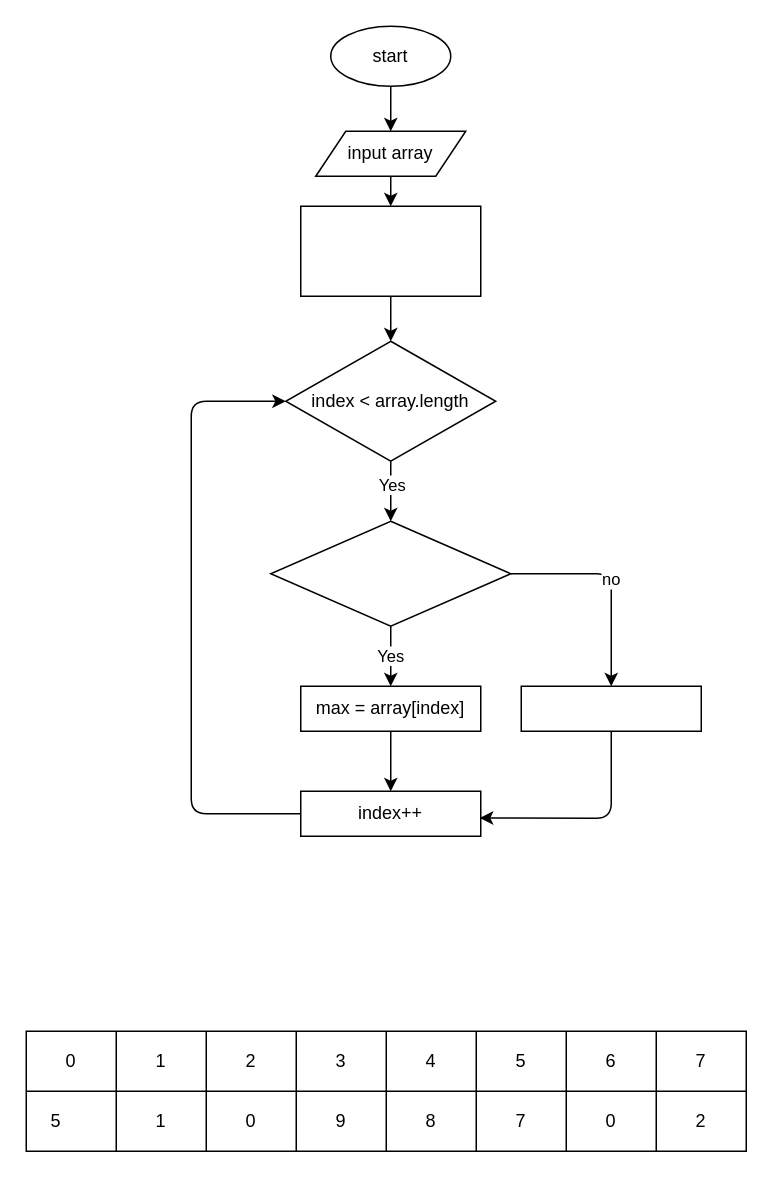
Some shapes in this 773 by 1178 pixel diagram are drawn without their labels. The shapes that lost their labels are listed below. From the top down, each one's centre as x and y in pixels, then its label:
At [390,250]: "index = 0 max = array[0] min = array[0]".
At [390,573]: "array[index] >= max".
At [610,708]: "min = array[index]".
